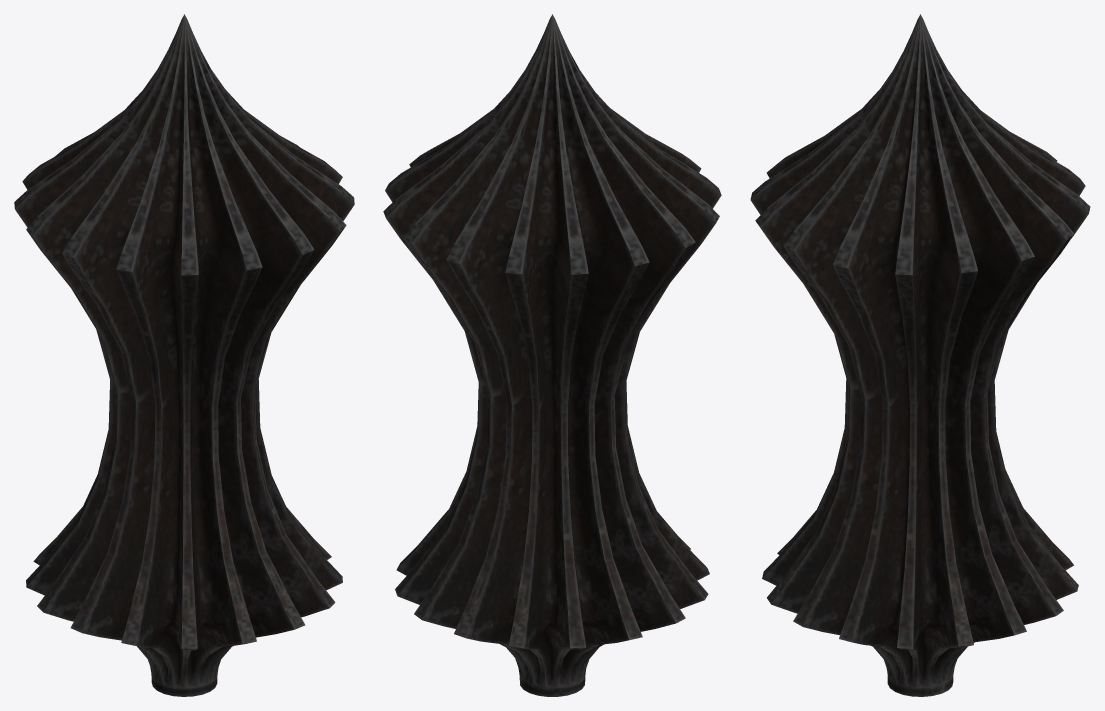
The model's file is wm_dol_goldur_1h_mace_a03_blade.fbx.
3 renders of one model, left to right at view 1: azimuth 30°, elevation 25°; view 2: azimuth 150°, elevation 25°; view 3: azimuth 270°, elevation 25°, orthographic.
Visible parts, largest first — view 1: wm_dol_goldur_1h_mace_a03_blade; view 2: wm_dol_goldur_1h_mace_a03_blade; view 3: wm_dol_goldur_1h_mace_a03_blade.
Part boxes in pixels (bbox=[...]): wm_dol_goldur_1h_mace_a03_blade: bbox=[14, 14, 354, 696]; wm_dol_goldur_1h_mace_a03_blade: bbox=[383, 14, 721, 696]; wm_dol_goldur_1h_mace_a03_blade: bbox=[750, 14, 1090, 696].
Size of the model in its own units: 0.1739 by 0.1739 by 0.3776.
1 material, 1 textured.
